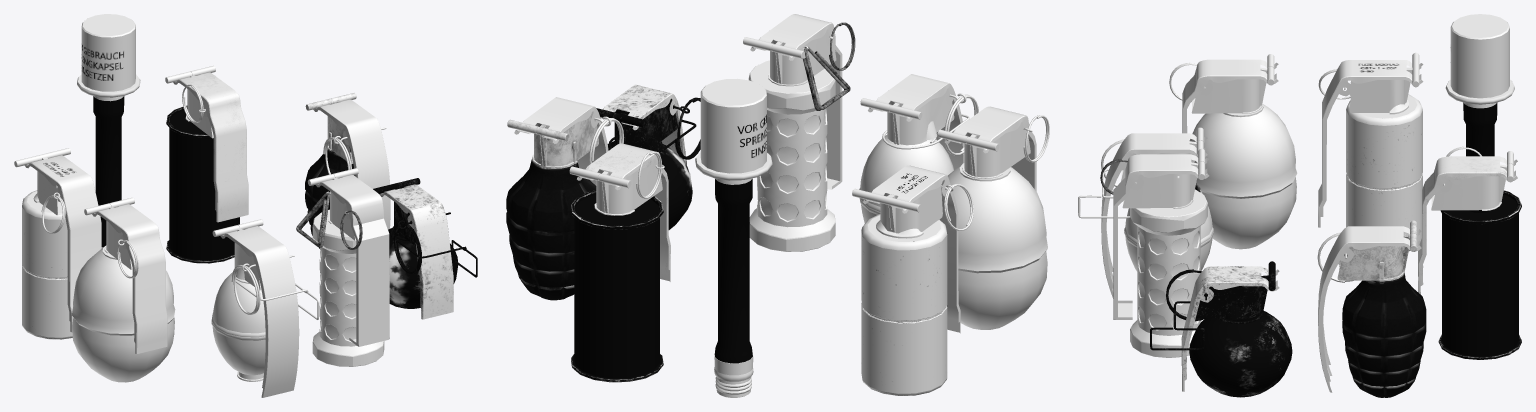
The model's file is Grenades.obj.
The picture shows the model from 3 angles, left to right: view 1: azimuth 30°, elevation 25°; view 2: azimuth 150°, elevation 25°; view 3: azimuth 270°, elevation 25°; orthographic projection. The views are drawn at different scales.
Visible parts, largest first — view 1: Grenade_Illuminating, Grenade_NonLethal, Grenade_M18_Smoke, Fragmentation_V1, Grenade_Offensive, Grenade_Fragmentation_V2, Grenade_Stick, Grenade_Fragmentation_V3; view 2: Grenade_Offensive, Grenade_M18_Smoke, Grenade_NonLethal, Grenade_Illuminating, Grenade_Stick, Grenade_Fragmentation_V3, Fragmentation_V1, Grenade_Fragmentation_V2; view 3: Grenade_M18_Smoke, Grenade_Illuminating, Grenade_NonLethal, Grenade_Offensive, Grenade_Fragmentation_V3, Grenade_Fragmentation_V2, Grenade_Stick, Fragmentation_V1.
Part boxes in pixels (x1,y1,x2,y2): Grenade_Illuminating: (72,197,175,382); Grenade_NonLethal: (296,168,389,366); Grenade_M18_Smoke: (165,65,248,263); Fragmentation_V1: (211,219,319,397); Grenade_Offensive: (14,148,101,339); Grenade_Fragmentation_V2: (373,178,477,319); Grenade_Stick: (77,14,140,248); Grenade_Fragmentation_V3: (305,93,390,248); Grenade_Offensive: (852,165,973,395); Grenade_M18_Smoke: (569,143,670,382); Grenade_NonLethal: (743,14,855,251); Grenade_Illuminating: (937,106,1049,329); Grenade_Stick: (695,78,772,397); Grenade_Fragmentation_V3: (506,97,624,300); Fragmentation_V1: (859,74,978,223); Grenade_Fragmentation_V2: (596,84,700,229); Grenade_M18_Smoke: (1418,146,1521,359); Grenade_Illuminating: (1169,54,1297,249); Grenade_NonLethal: (1100,148,1209,357); Grenade_Offensive: (1318,52,1423,251); Grenade_Fragmentation_V3: (1317,220,1426,397); Grenade_Fragmentation_V2: (1150,261,1292,397); Grenade_Stick: (1445,14,1514,156); Fragmentation_V1: (1078,127,1213,298).
Size of the model in its own units: 1.95 by 1.23 by 1.85.
